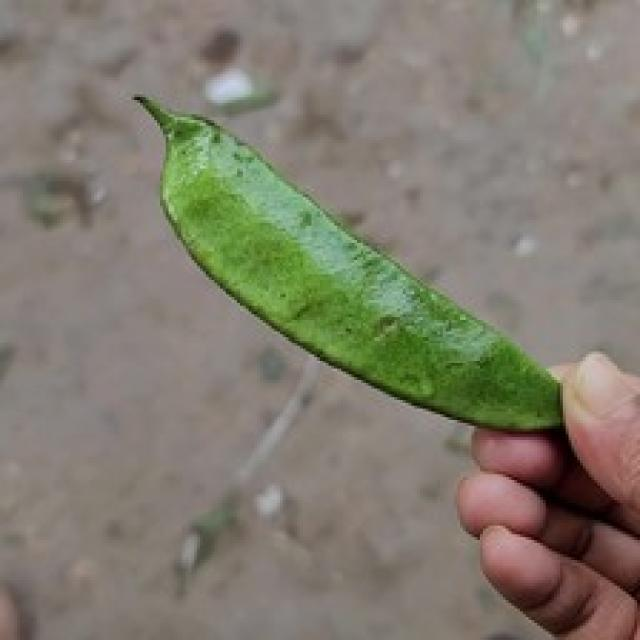Bean: (131, 89, 566, 434)
